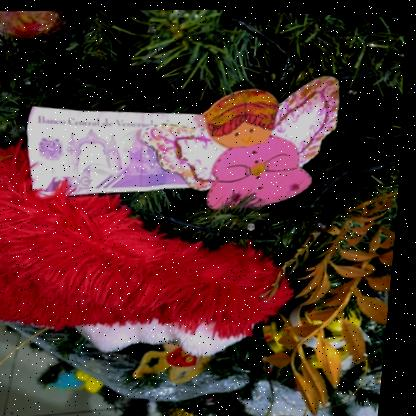one_hundred-back-vef: (22, 96, 214, 203)
